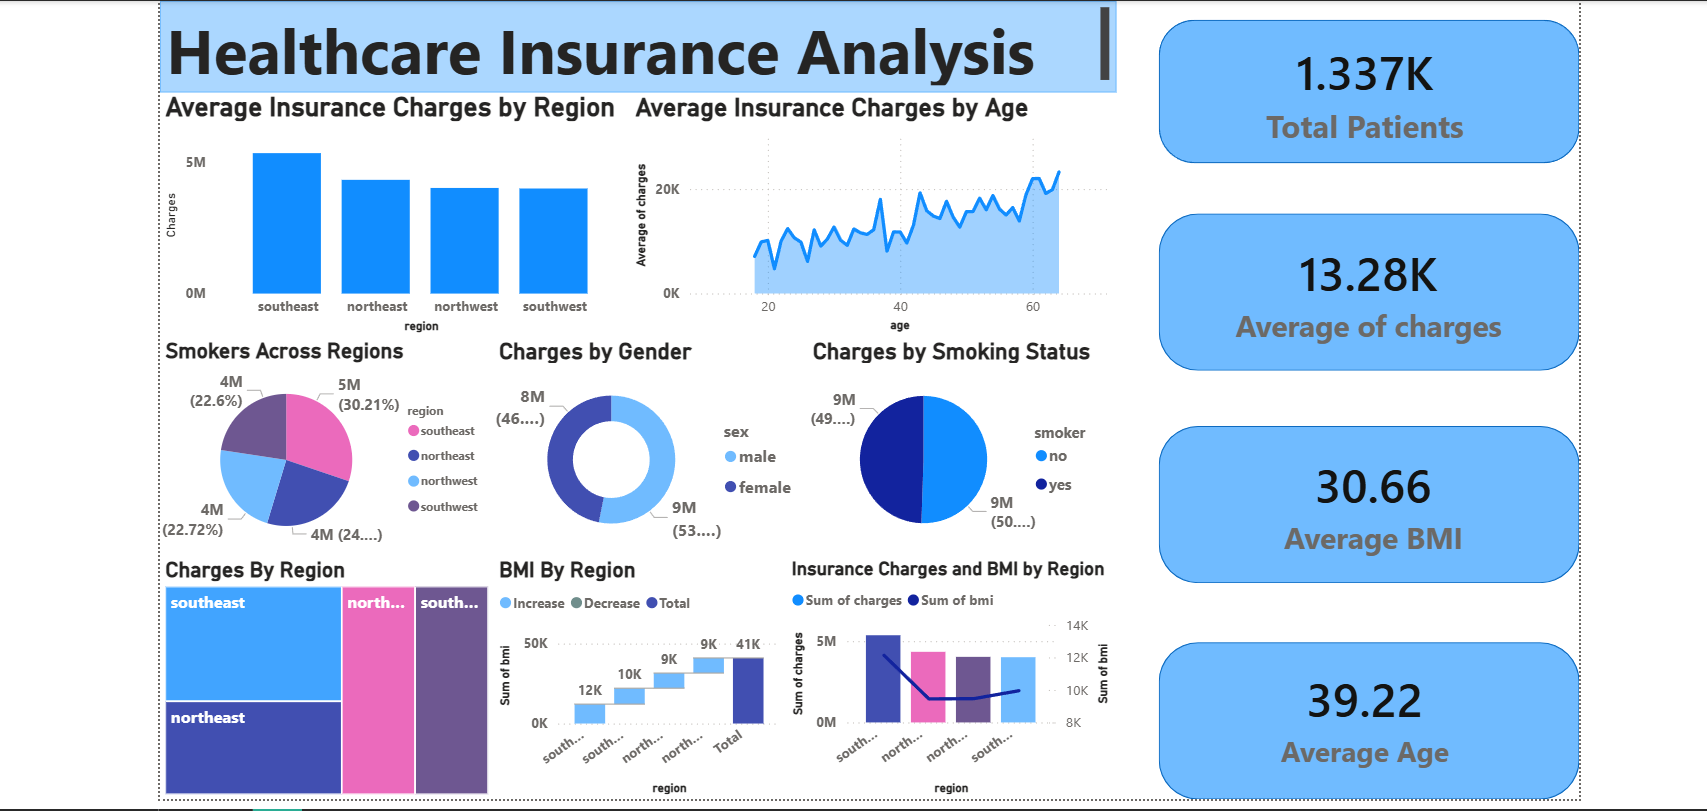

This screenshot's page, from the dashboard's own definition file:
{"tool":"powerbi","page":{"name":"Page 1","canvas":[1280,720],"ordinal":0},"visuals":[{"type":"textbox","box":[0,0,862.1,82.1],"z":0},{"type":"shape","box":[900.6,17.4,379.4,129.4],"z":1000},{"type":"cardVisual","fields":{"Data":["CountNonNull(insurance_cleaned.age)"]},"box":[961.6,7.5,250,149.3],"z":2000},{"type":"shape","box":[900.6,191.6,379.4,141.8],"z":3000},{"type":"shape","box":[900.6,383.1,379.4,141.8],"z":4000},{"type":"shape","box":[900.6,578.4,379.4,141.8],"z":5000},{"type":"cardVisual","fields":{"Data":["Avg(insurance_cleaned.charges)"]},"box":[923,191.6,333.4,141.8],"z":6000},{"type":"cardVisual","fields":{"Data":["Avg(insurance_cleaned.age)"]},"box":[961.6,571,250,149.3],"z":7000},{"type":"cardVisual","fields":{"Data":["Avg(insurance_cleaned.bmi)"]},"box":[928,383.1,333.4,141.8],"z":8000},{"type":"clusteredColumnChart","title":"Average Insurance Charges by Region","fields":{"Category":["insurance_cleaned.region"],"Y":["Sum(insurance_cleaned.charges)"]},"box":[0,80.9,425.4,222.7],"z":9000},{"type":"stackedAreaChart","title":"Average Insurance Charges by Age","fields":{"Category":["insurance_cleaned.age"],"Y":["Avg(insurance_cleaned.charges)"]},"box":[424.2,82.1,437.9,221.4],"z":10000},{"type":"donutChart","title":"Charges by Gender","fields":{"Category":["insurance_cleaned.sex"],"Y":["Sum(insurance_cleaned.charges)"]},"box":[301,303.5,282.4,197.8],"z":11000},{"type":"pieChart","title":"Charges by Smoking Status","fields":{"Category":["insurance_cleaned.smoker"],"Y":["Sum(insurance_cleaned.charges)"]},"box":[583.4,303.5,278.6,197.8],"z":12000},{"type":"treemap","title":"Charges By Region","fields":{"Group":["insurance_cleaned.region"],"Values":["Sum(insurance_cleaned.charges)"]},"box":[0,501.3,301,218.9],"z":13000},{"type":"waterfallChart","title":"BMI By Region","fields":{"Y":["Sum(insurance_cleaned.bmi)"],"Category":["insurance_cleaned.region"]},"box":[301,501.3,263.7,218.9],"z":14000},{"type":"pieChart","title":"Smokers Across Regions","fields":{"Category":["insurance_cleaned.region"],"Y":["Sum(insurance_cleaned.charges)"]},"box":[0,304.8,301,197.8],"z":15000},{"type":"lineStackedColumnComboChart","title":"Insurance Charges and BMI by Region","fields":{"Category":["insurance_cleaned.region"],"Y":["Sum(insurance_cleaned.charges)"],"Y2":["Sum(insurance_cleaned.bmi)"]},"box":[564.8,501.3,297.3,218.9],"z":16000}]}

Visuals, with their boxes on the page's 1280x720 design canvas (x1, y1, x2, y2). These are canvas units, not pixel positions in the 1707x811 screenshot, which may show the page scaled, cropped or inside an application window:
textbox: crop(0, 0, 862, 82)
shape: crop(901, 17, 1280, 147)
cardVisual - CountNonNull(insurance_cleaned.age): crop(962, 8, 1212, 157)
shape: crop(901, 192, 1280, 333)
shape: crop(901, 383, 1280, 525)
shape: crop(901, 578, 1280, 720)
cardVisual - Avg(insurance_cleaned.charges): crop(923, 192, 1256, 333)
cardVisual - Avg(insurance_cleaned.age): crop(962, 571, 1212, 720)
cardVisual - Avg(insurance_cleaned.bmi): crop(928, 383, 1261, 525)
"Average Insurance Charges by Region" clusteredColumnChart: crop(0, 81, 425, 304)
"Average Insurance Charges by Age" stackedAreaChart: crop(424, 82, 862, 304)
"Charges by Gender" donutChart: crop(301, 304, 583, 501)
"Charges by Smoking Status" pieChart: crop(583, 304, 862, 501)
"Charges By Region" treemap: crop(0, 501, 301, 720)
"BMI By Region" waterfallChart: crop(301, 501, 565, 720)
"Smokers Across Regions" pieChart: crop(0, 305, 301, 503)
"Insurance Charges and BMI by Region" lineStackedColumnComboChart: crop(565, 501, 862, 720)
